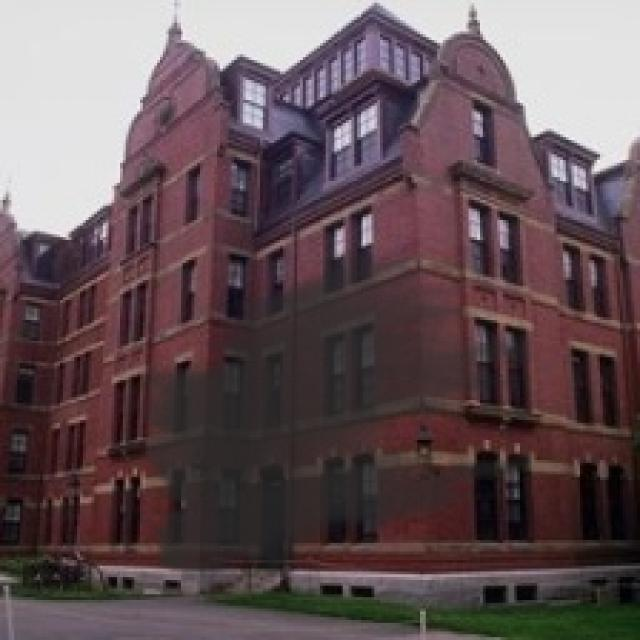smoke: (114, 237, 532, 597)
